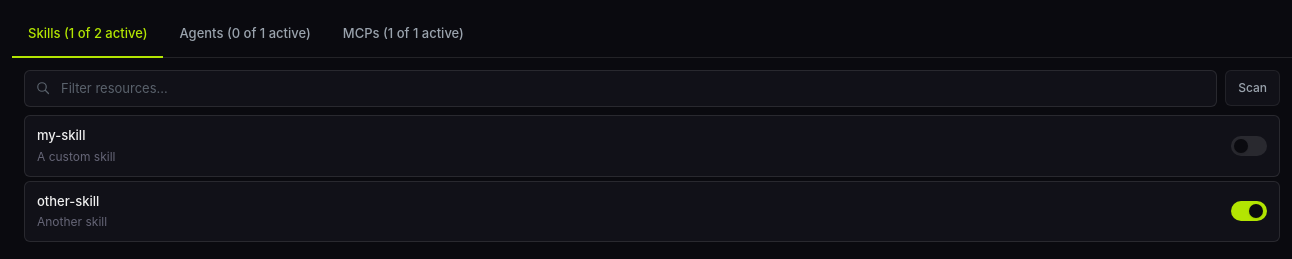
Scenario: ResourceConfig › data state › filters resources by search
The width and height of the screenshot is (1292, 259).
Type "other" into the field with test id "resource-search" at (621,88), box [24, 70, 1217, 107]
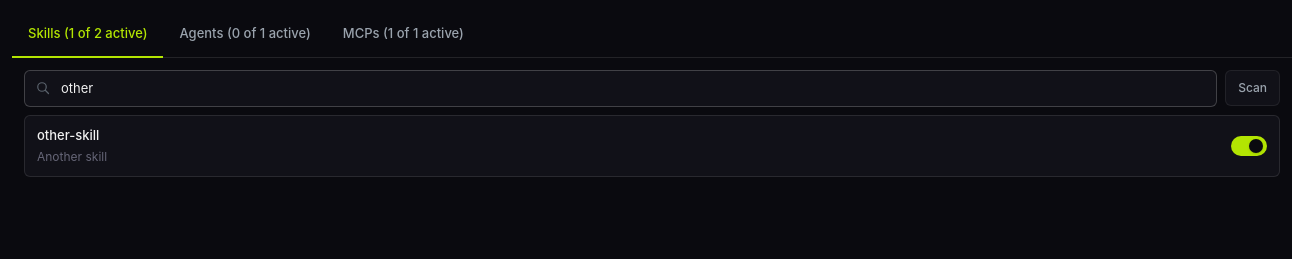
Expected: the text "other-skill" is shown, [37, 126, 99, 146]
Expected: the text "my-skill" is gone
